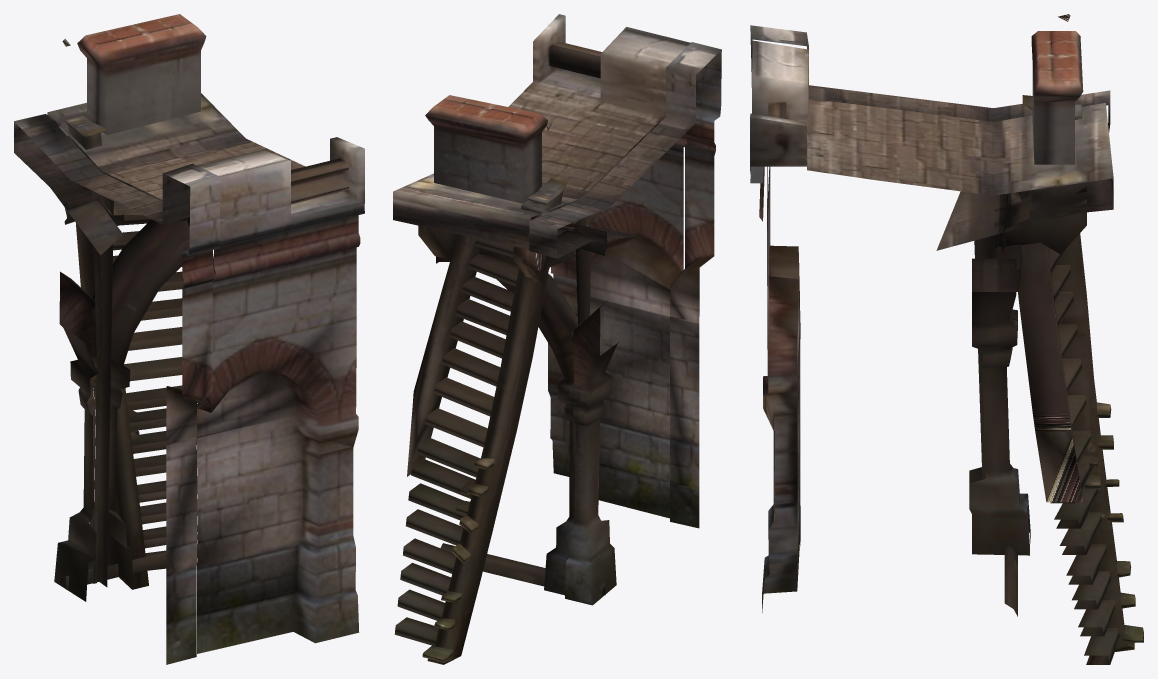
Rendered from WallRunRight_13.fbx.
3 views of the same model, side by side, from view 1: azimuth 30°, elevation 25°; view 2: azimuth 150°, elevation 25°; view 3: azimuth 270°, elevation 25° (orthographic). The views are drawn at different scales.
Visible parts, largest first — view 1: Imported wall section.074; view 2: Imported wall section.074; view 3: Imported wall section.074.
Boxes of the visible parts, x1,y1,x2,y2 form: Imported wall section.074: (14, 14, 364, 664); Imported wall section.074: (393, 14, 721, 664); Imported wall section.074: (750, 14, 1143, 664).
Size of the model in its own units: 200 by 635 by 382.
Materials: 1 (1 with a texture image).
